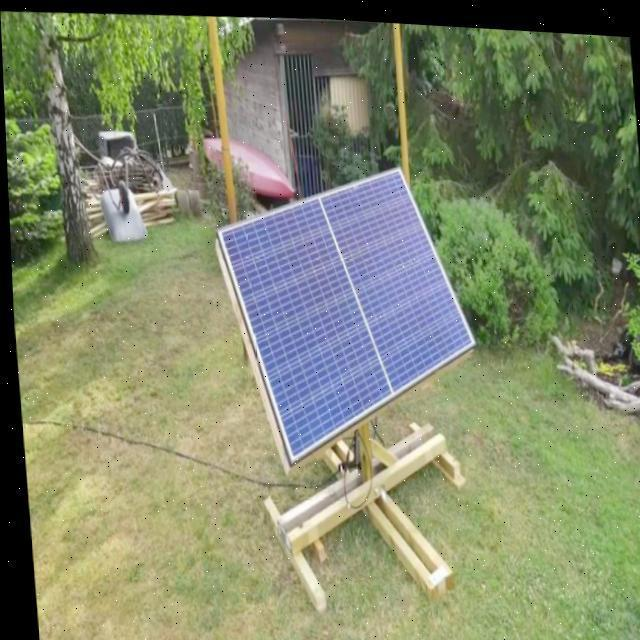Normal Solar Panel: (212, 154, 480, 474)
